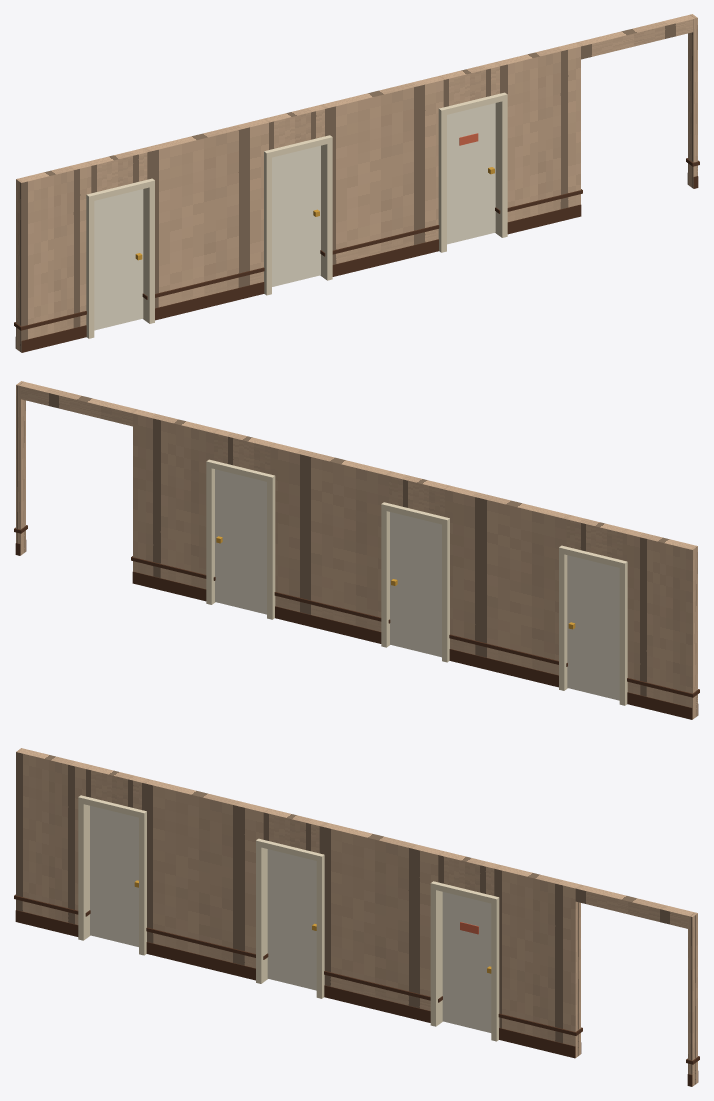
The model's file is hall_back.glb.
3 views of the same model, one above another, from view 1: azimuth 30°, elevation 25°; view 2: azimuth 150°, elevation 25°; view 3: azimuth 330°, elevation 25° (orthographic).
Visible parts, largest first — view 1: Box3, Box5, Box7, Box1, Box31, Box25, Box18, Box14, Box11, Box13, Box12, Box16 (+15 smaller); view 2: Box3, Box5, Box7, Box1, Box31, Box18, Box25, Box14, Box11, Box13, Box12, Box9 (+14 smaller); view 3: Box3, Box5, Box7, Box1, Box25, Box31, Box18, Box14, Box12, Box13, Box11, Box15 (+14 smaller).
Boxes of the visible parts, x1=… form: Box3: x1=142, y1=118, x2=268, y2=308; Box5: x1=320, y1=76, x2=443, y2=262; Box7: x1=495, y1=42, x2=580, y2=221; Box1: x1=16, y1=162, x2=91, y2=352; Box31: x1=94, y1=189, x2=143, y2=330; Box25: x1=272, y1=145, x2=320, y2=286; Box18: x1=447, y1=103, x2=495, y2=244; Box14: x1=576, y1=15, x2=693, y2=59; Box11: x1=86, y1=148, x2=147, y2=193; Box13: x1=439, y1=62, x2=499, y2=107; Box12: x1=264, y1=105, x2=324, y2=149; Box16: x1=495, y1=92, x2=507, y2=237; Box3: x1=445, y1=485, x2=571, y2=675; Box5: x1=270, y1=443, x2=393, y2=631; Box7: x1=133, y1=409, x2=218, y2=588; Box1: x1=622, y1=529, x2=697, y2=719; Box31: x1=567, y1=555, x2=619, y2=700; Box18: x1=215, y1=469, x2=266, y2=614; Box25: x1=390, y1=512, x2=441, y2=657; Box14: x1=20, y1=382, x2=137, y2=426; Box11: x1=566, y1=515, x2=627, y2=560; Box13: x1=214, y1=429, x2=274, y2=474; Box12: x1=389, y1=472, x2=449, y2=516; Box9: x1=16, y1=381, x2=25, y2=555; Box3: x1=142, y1=779, x2=268, y2=968; Box5: x1=319, y1=822, x2=443, y2=1010; Box7: x1=494, y1=865, x2=580, y2=1057; Box1: x1=16, y1=748, x2=90, y2=924; Box25: x1=267, y1=849, x2=316, y2=990; Box31: x1=90, y1=805, x2=138, y2=946; Box18: x1=442, y1=892, x2=491, y2=1032; Box14: x1=575, y1=884, x2=692, y2=928; Box12: x1=263, y1=808, x2=324, y2=853; Box13: x1=438, y1=851, x2=499, y2=895; Box11: x1=86, y1=765, x2=146, y2=809; Box15: x1=430, y1=881, x2=442, y2=1026.
Size of the model in its own units: 10.89 by 2.6 by 0.3.
Materials: 6 (1 with a texture image).
